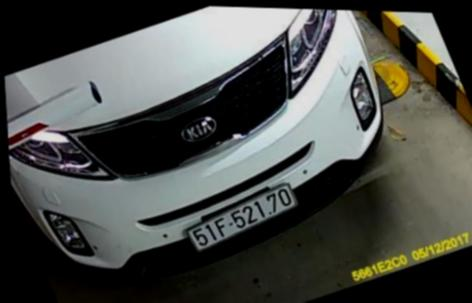License_Plate: (182, 182, 303, 261)
